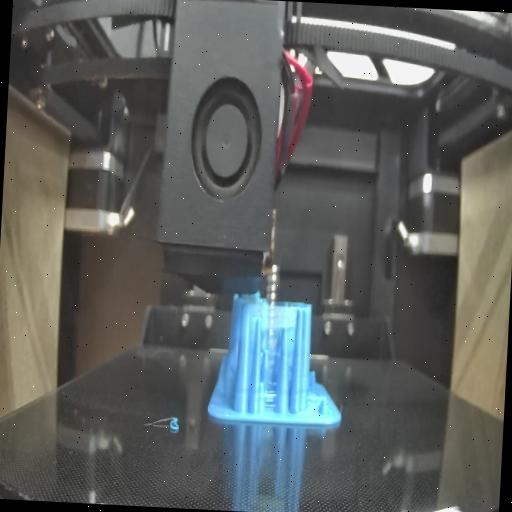stringing: (247, 301, 298, 332), (259, 384, 278, 416)
